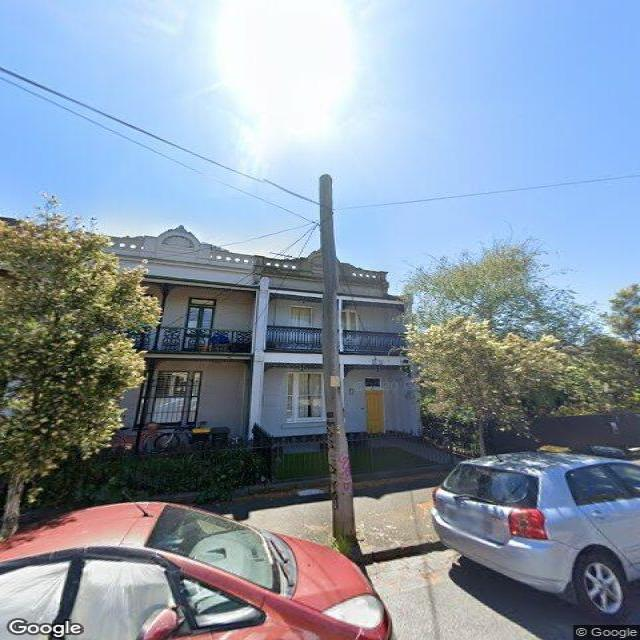timber-pole: (318, 174, 356, 540)
